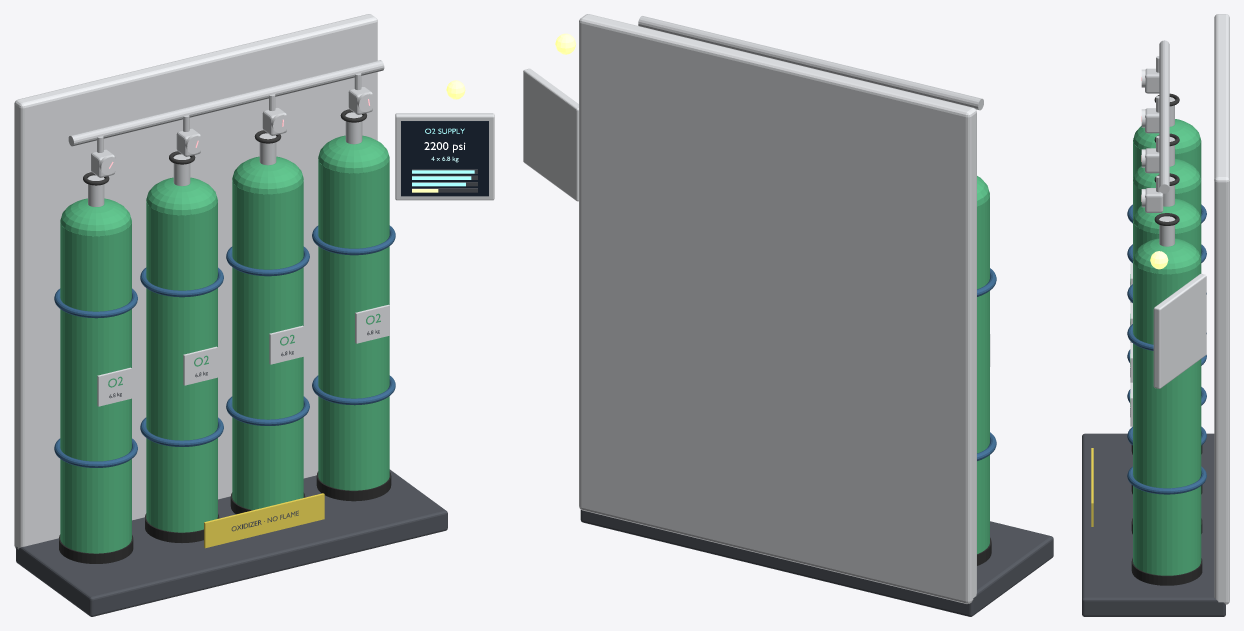
The model's file is oxygen_tanks.glb.
The picture shows the model from 3 angles, left to right: view 1: azimuth 30°, elevation 25°; view 2: azimuth 150°, elevation 25°; view 3: azimuth 270°, elevation 25°; orthographic projection. The views are drawn at different scales.
Visible parts, largest first — view 1: Rack_Back, Rack_Base, O2_Cylinder, O2_Cylinder.003, O2_Cylinder.001, O2_Cylinder.002, O2_Panel_Panel, O2_Manifold, Oxidizer_Warning, O2_Panel_Bezel, Cylinder_Dome.003, Cylinder_Dome.001 (+17 smaller); view 2: Rack_Back, Rack_Base, O2_Panel_Bezel, O2_Cylinder, O2_Manifold; view 3: O2_Cylinder.003, Rack_Base, Rack_Back, O2_Panel_Bezel, O2_Manifold, Cylinder_Dome.003, Cylinder_Dome.002, Cylinder_Dome, Cylinder_Dome.001, Cylinder_Boot.003, O2_Cylinder.002, Rack_Strap.006 (+11 smaller).
Boxes of the visible parts, left/top/right/bottom form: Rack_Back: left=14, top=14, right=377, bottom=549; Rack_Base: left=16, top=469, right=447, bottom=616; O2_Cylinder: left=60, top=220, right=131, bottom=553; O2_Cylinder.003: left=318, top=159, right=389, bottom=490; O2_Cylinder.001: left=146, top=198, right=217, bottom=532; O2_Cylinder.002: left=232, top=177, right=303, bottom=510; O2_Panel_Panel: left=401, top=121, right=488, bottom=196; O2_Manifold: left=68, top=60, right=384, bottom=146; Oxidizer_Warning: left=204, top=493, right=324, bottom=548; O2_Panel_Bezel: left=395, top=113, right=494, bottom=200; Cylinder_Dome.003: left=318, top=135, right=389, bottom=173; Cylinder_Dome.001: left=146, top=177, right=217, bottom=215; Rack_Back: left=579, top=14, right=976, bottom=603; Rack_Base: left=580, top=510, right=1053, bottom=616; O2_Panel_Bezel: left=523, top=68, right=578, bottom=201; O2_Cylinder: left=977, top=192, right=989, bottom=553; O2_Manifold: left=638, top=16, right=983, bottom=110; O2_Cylinder.003: left=1133, top=258, right=1201, bottom=575; Rack_Base: left=1082, top=433, right=1225, bottom=616; Rack_Back: left=1214, top=14, right=1229, bottom=604; O2_Panel_Bezel: left=1153, top=273, right=1206, bottom=388; O2_Manifold: left=1159, top=40, right=1169, bottom=193; Cylinder_Dome.003: left=1133, top=238, right=1200, bottom=274; Cylinder_Dome.002: left=1133, top=198, right=1200, bottom=234; Cylinder_Dome: left=1133, top=119, right=1200, bottom=154; Cylinder_Dome.001: left=1133, top=158, right=1200, bottom=194; Cylinder_Boot.003: left=1131, top=558, right=1202, bottom=585; O2_Cylinder.002: left=1133, top=220, right=1201, bottom=259; Rack_Strap.006: left=1127, top=466, right=1206, bottom=494.
Bounding box in the file's own units: 1.86 × 1.85 × 0.565.
